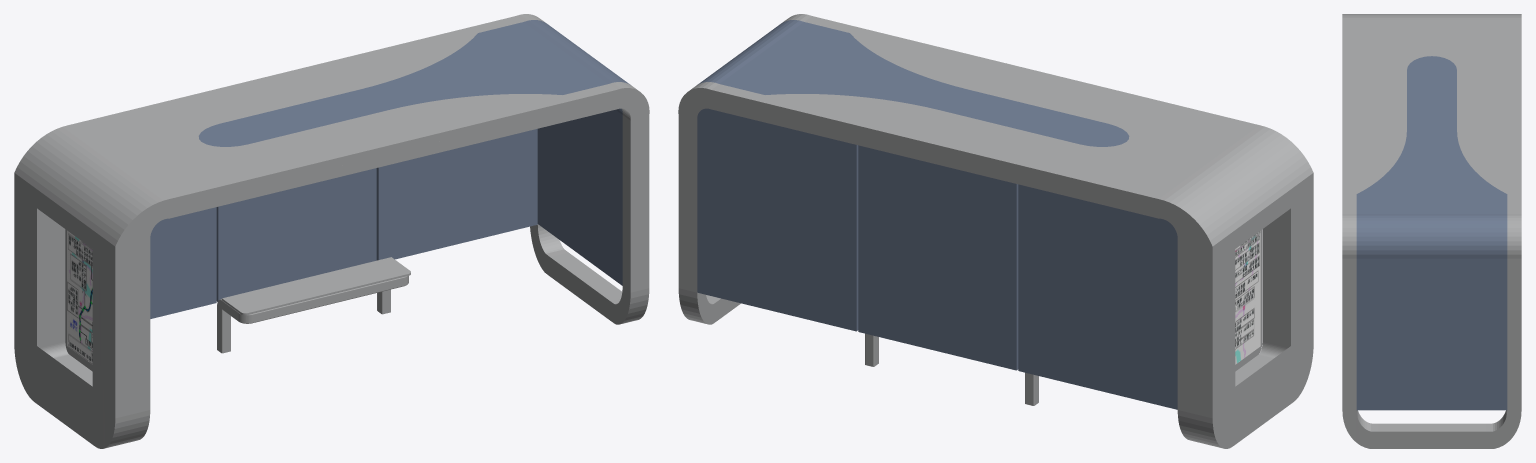
Rendered from station2.gltf.
3 views of the same model, side by side, from view 1: azimuth 30°, elevation 25°; view 2: azimuth 150°, elevation 25°; view 3: azimuth 270°, elevation 25° (orthographic). The views are drawn at different scales.
Visible parts, largest first — view 1: 站台14; view 2: 站台14; view 3: 站台14.
Boxes of the visible parts, box(x1,y1,x2,y2) form: 站台14: box(14, 14, 649, 448); 站台14: box(678, 14, 1313, 448); 站台14: box(1342, 14, 1521, 448).
Size of the model in its own units: 7 by 3.12 by 2.29.
3 materials, 1 textured.
